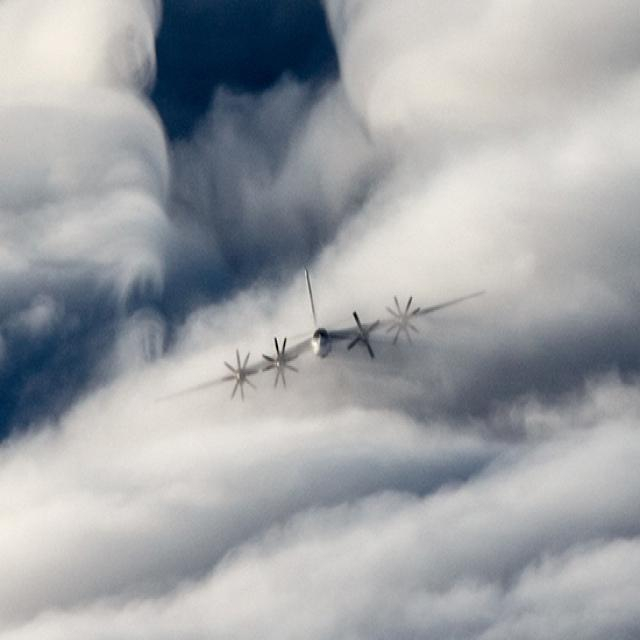MIL_Plane: (152, 266, 486, 402)
